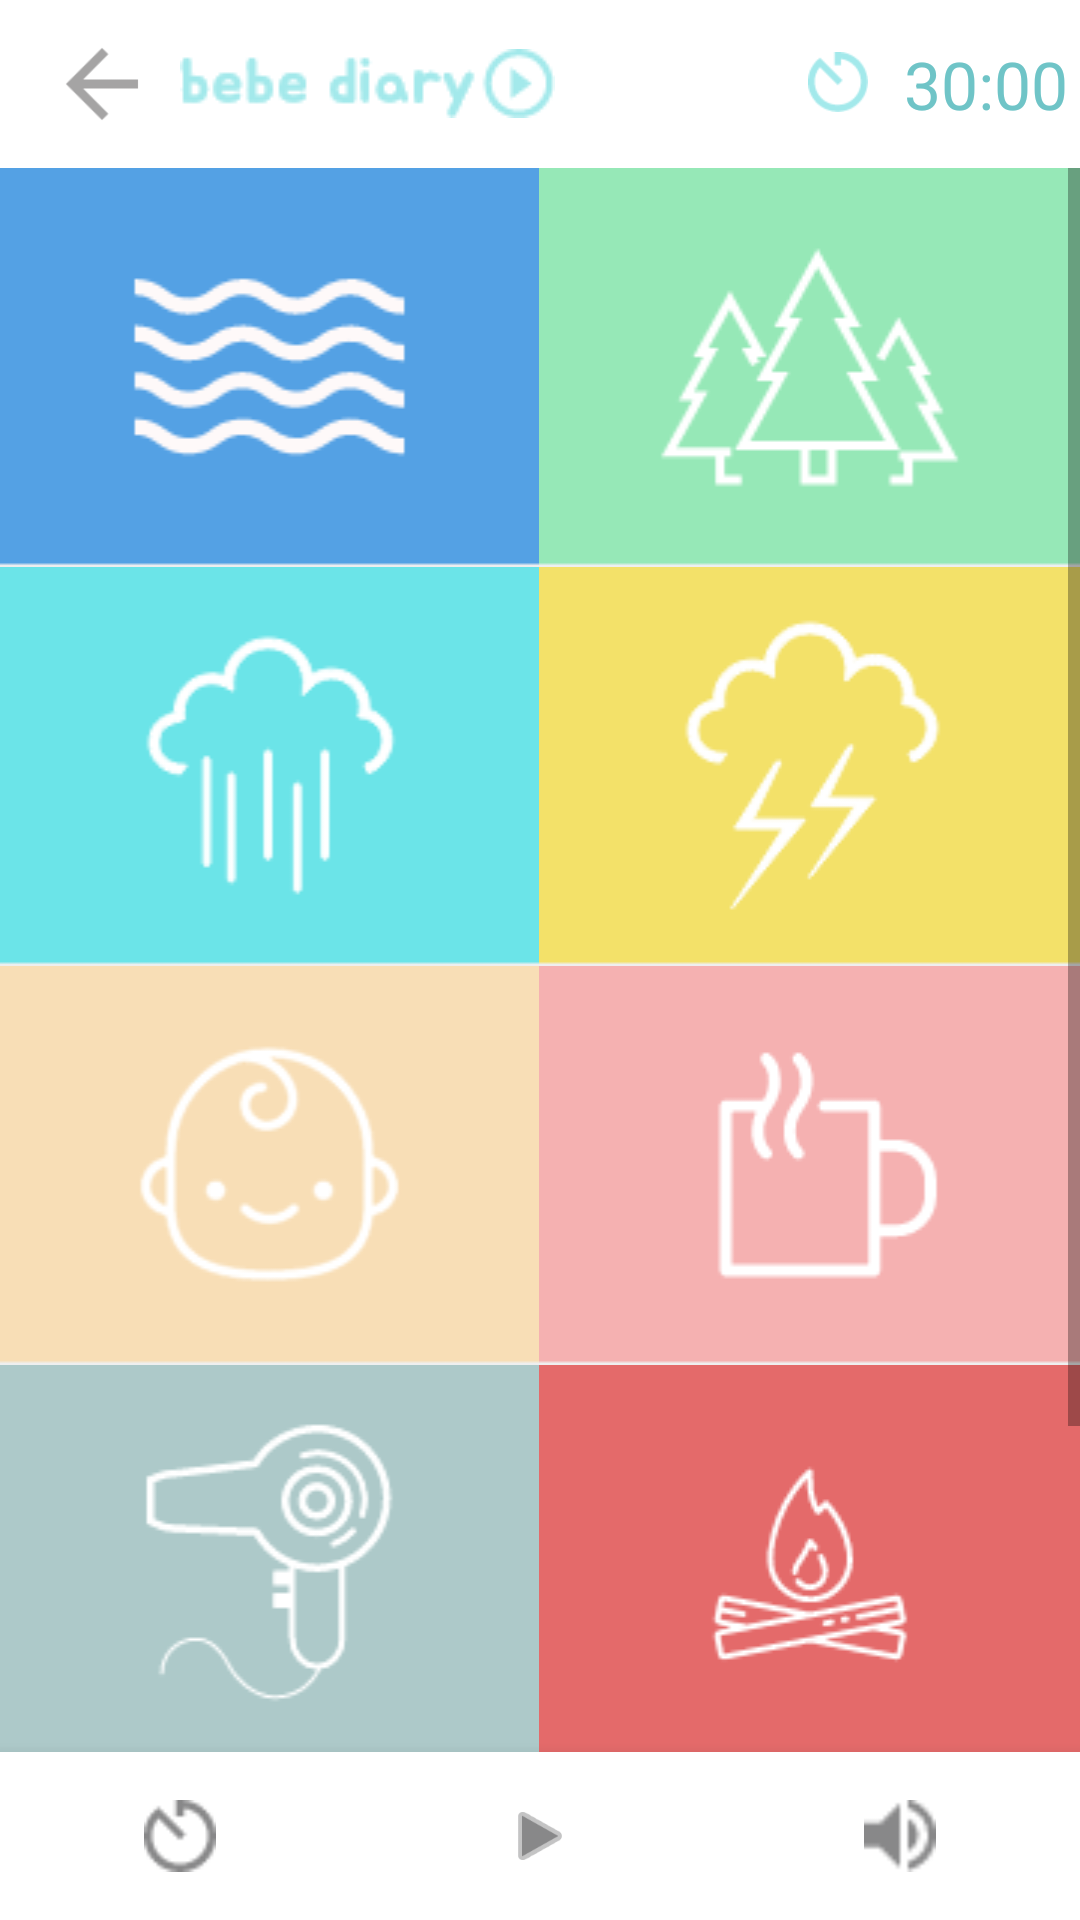

Where icons sit on this 1080 × 1920 app screen, as (x1, y1, x2, y2):
arrow back: (66, 48, 138, 120)
timer: (808, 52, 868, 112)
